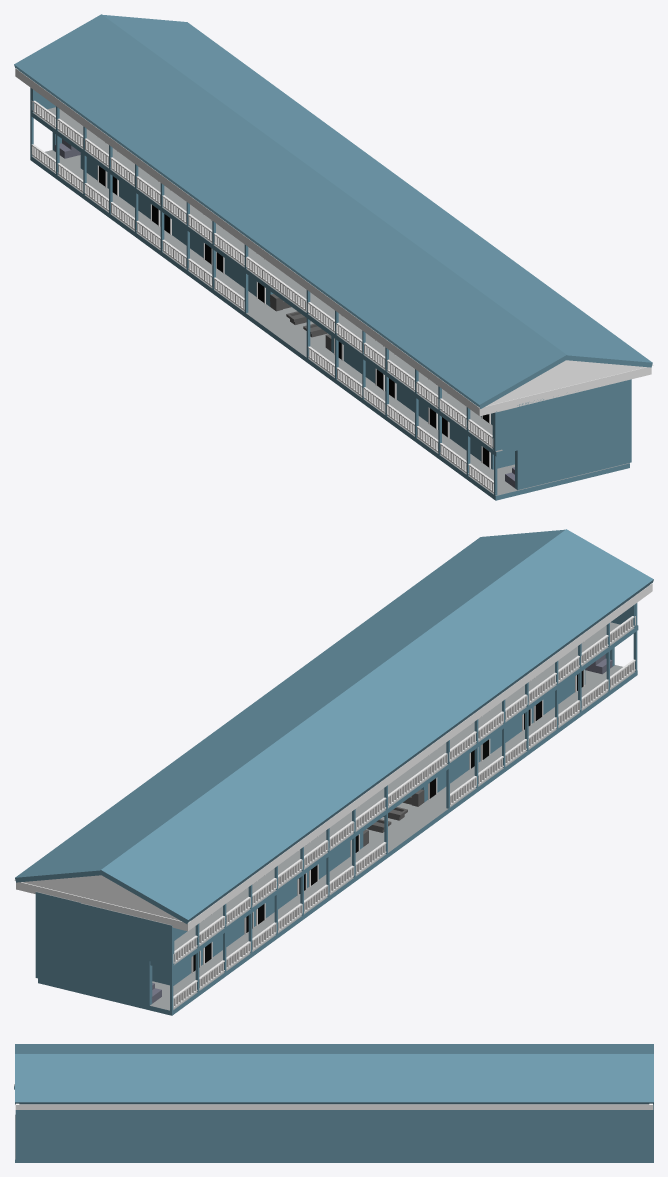
Rendered from COB.glb.
3 renders of one model, top to bottom at view 1: azimuth 30°, elevation 25°; view 2: azimuth 150°, elevation 25°; view 3: azimuth 270°, elevation 25°, orthographic. The views are drawn at different scales.
Parts seen in each view (by area): view 1: cube.568; view 2: cube.568; view 3: cube.568.
Boxes of the visible parts, left/top/right/bottom form: cube.568: left=14, top=14, right=653, bottom=500; cube.568: left=14, top=529, right=653, bottom=1015; cube.568: left=14, top=1044, right=653, bottom=1162.
Size of the model in its own units: 4.89 by 3.43 by 22.56.
6 materials, 6 textured.
